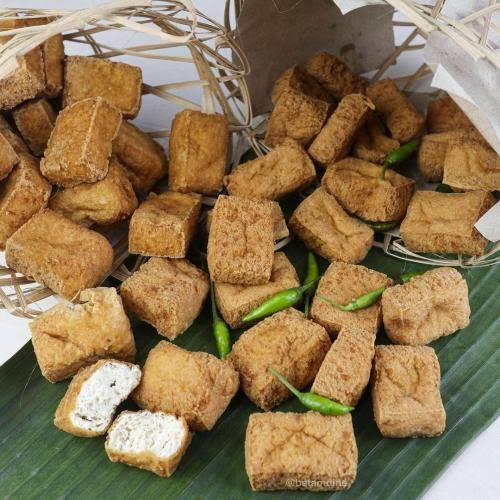Tahu: (223, 412, 359, 499), (1, 213, 126, 294), (365, 327, 449, 433), (34, 93, 123, 188), (237, 311, 320, 399), (130, 251, 218, 332), (39, 284, 126, 365), (158, 100, 235, 175), (127, 187, 198, 252), (164, 353, 227, 410), (405, 276, 464, 330), (232, 205, 280, 269), (223, 149, 304, 185)
